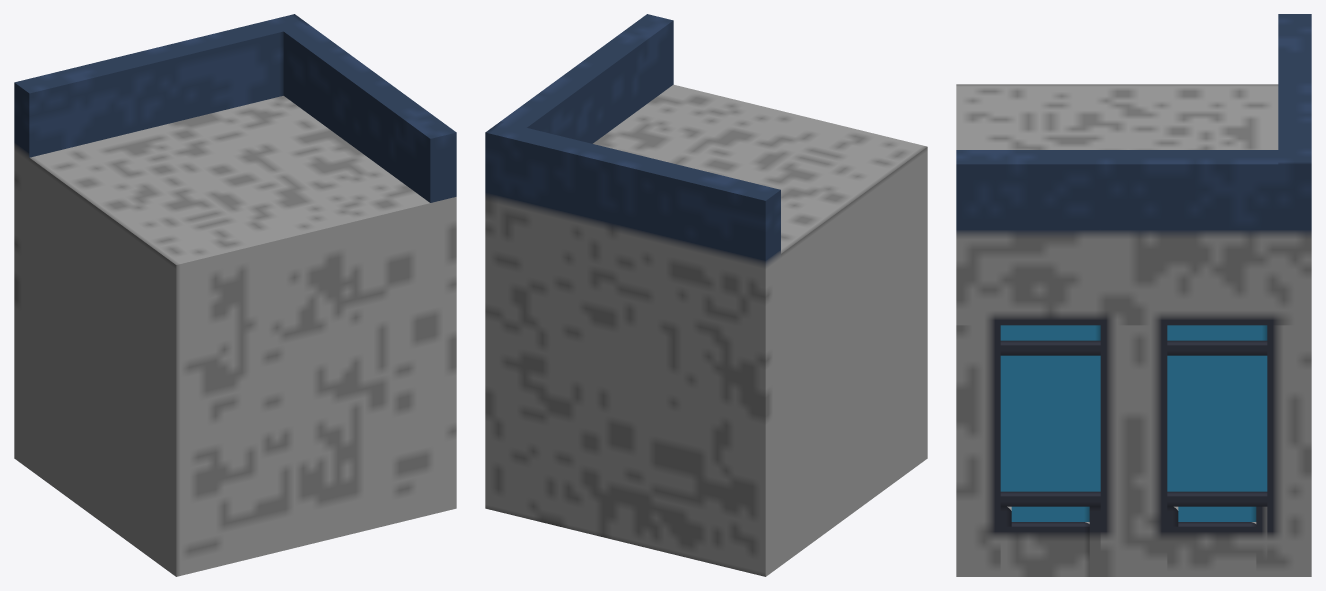
The model's file is budynek_mały_okna_bok.dae.
3 renders of one model, left to right at view 1: azimuth 30°, elevation 25°; view 2: azimuth 150°, elevation 25°; view 3: azimuth 270°, elevation 25°, orthographic. The views are drawn at different scales.
Parts seen in each view (by area): view 1: Content; view 2: Content; view 3: Content.
Part boxes in pixels (left/top/right/bottom): Content: left=14, top=14, right=456, bottom=576; Content: left=485, top=14, right=927, bottom=576; Content: left=956, top=14, right=1311, bottom=576.
Size of the model in its own units: 32 by 41 by 32.
Materials: 1 (1 with a texture image).
